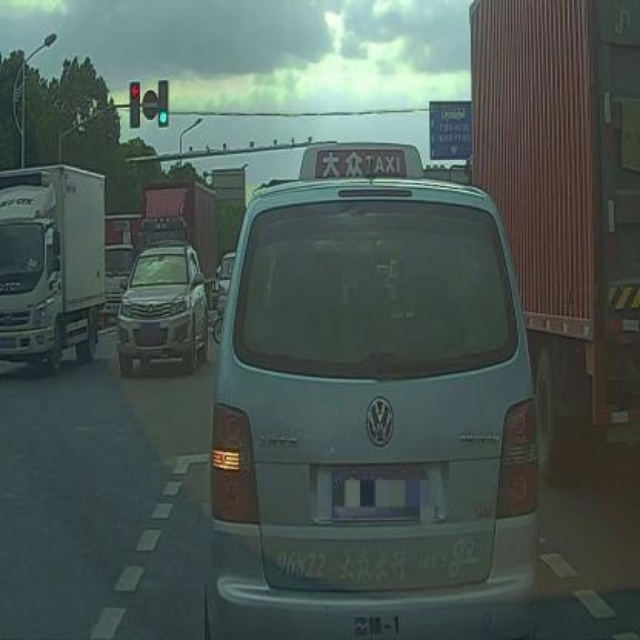Đèn xanh: (159, 76, 169, 128)
